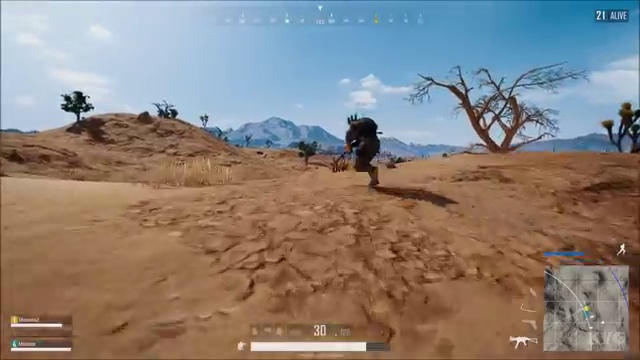Player: (330, 107, 404, 192)
